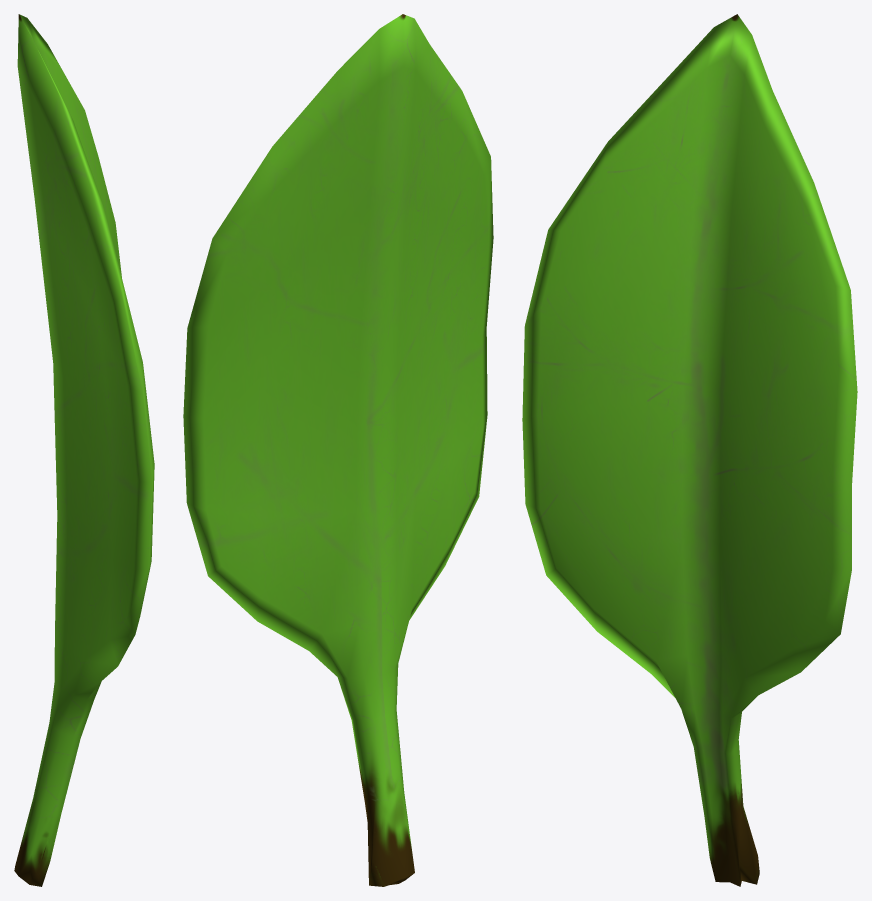
Rendered from Tealeaf_Base.fbx.
The picture shows the model from 3 angles, left to right: view 1: azimuth 30°, elevation 25°; view 2: azimuth 150°, elevation 25°; view 3: azimuth 270°, elevation 25°; orthographic projection.
Parts seen in each view (by area): view 1: Tealeaf; view 2: Tealeaf; view 3: Tealeaf.
Boxes of the visible parts, x1,y1,x2,y2 form: Tealeaf: (14,14,154,886); Tealeaf: (183,14,493,886); Tealeaf: (522,14,857,886).
Size of the model in its own units: 2.22 by 11.05 by 3.89.
